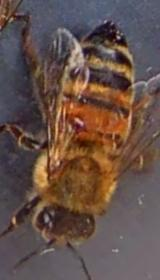varroa_mite: (56, 106, 94, 138)
